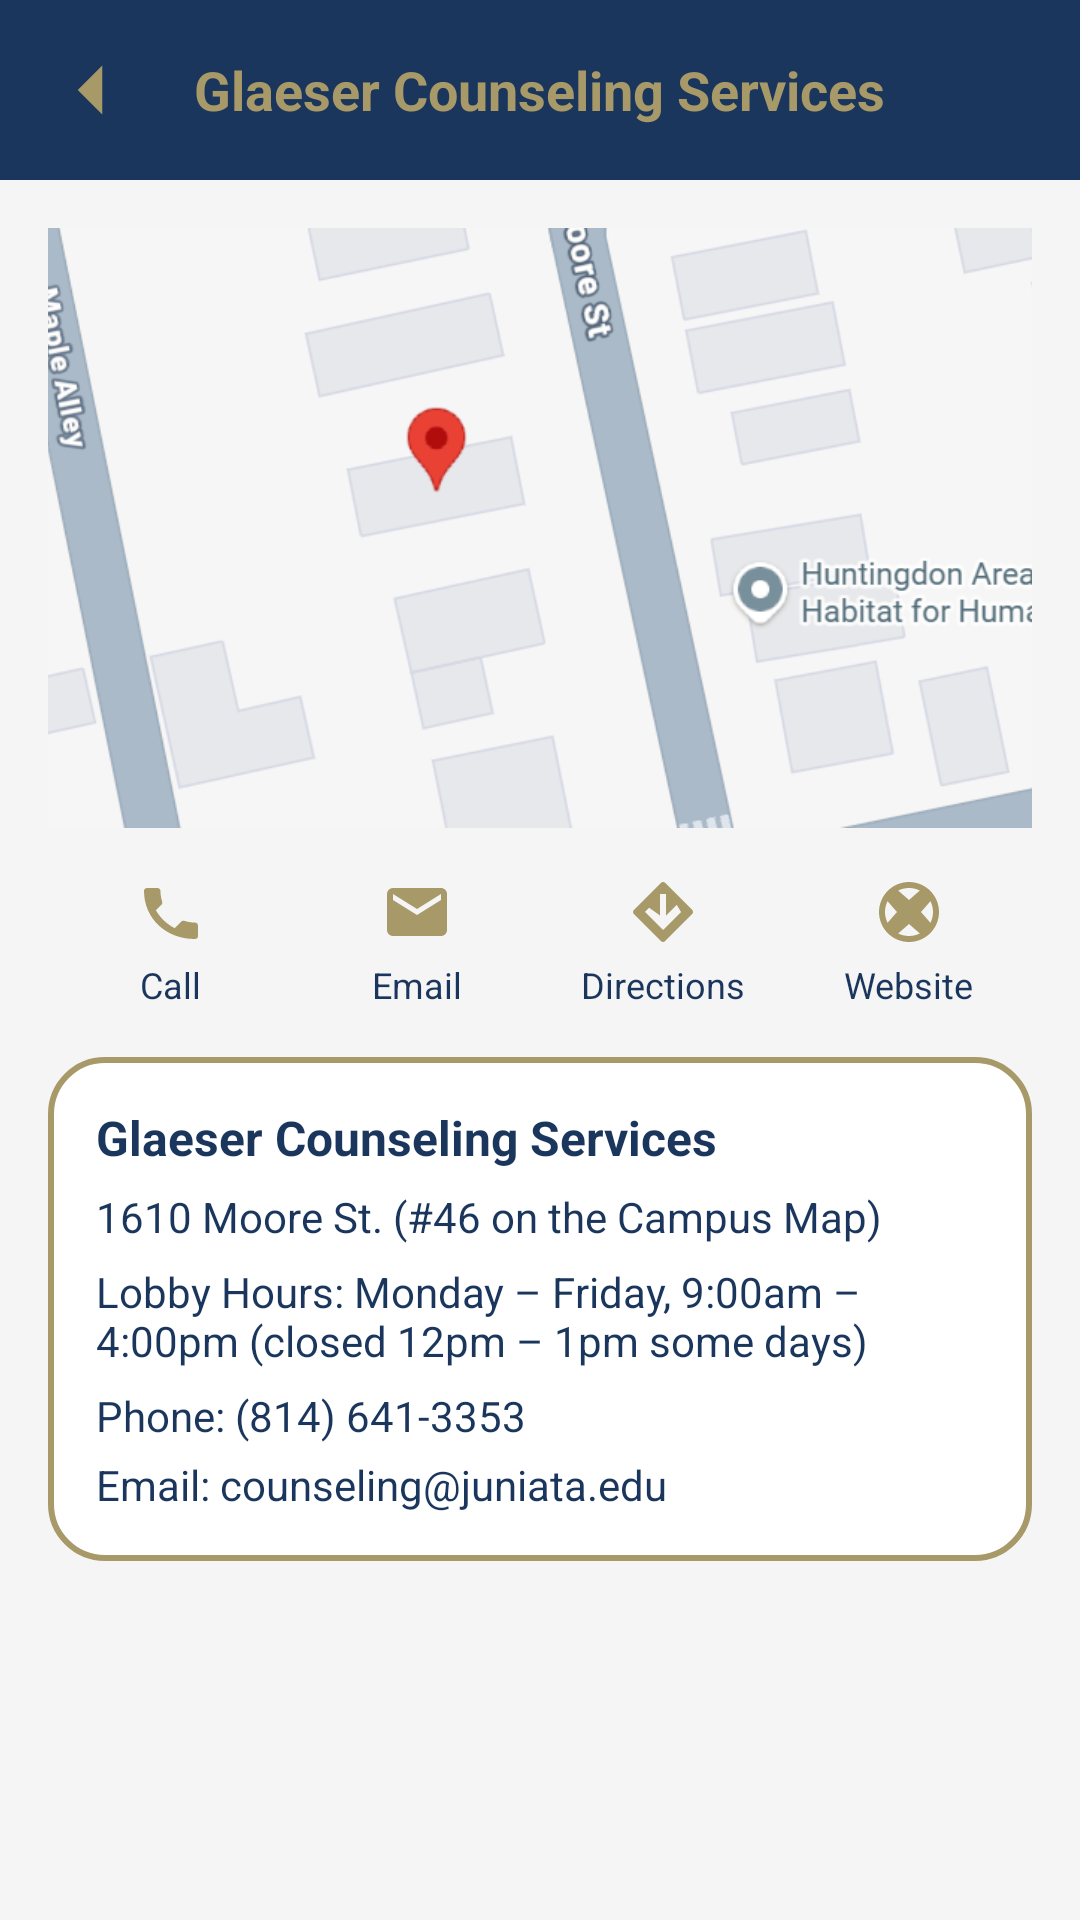

Screen size 1080px x 1920px. Icon name, then its center in pixels as [x,y]:
back: [90,90]
